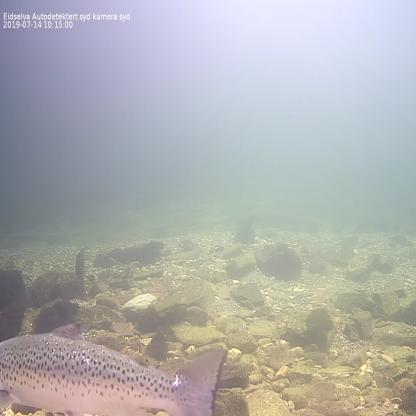salmon: (0, 320, 230, 416)
